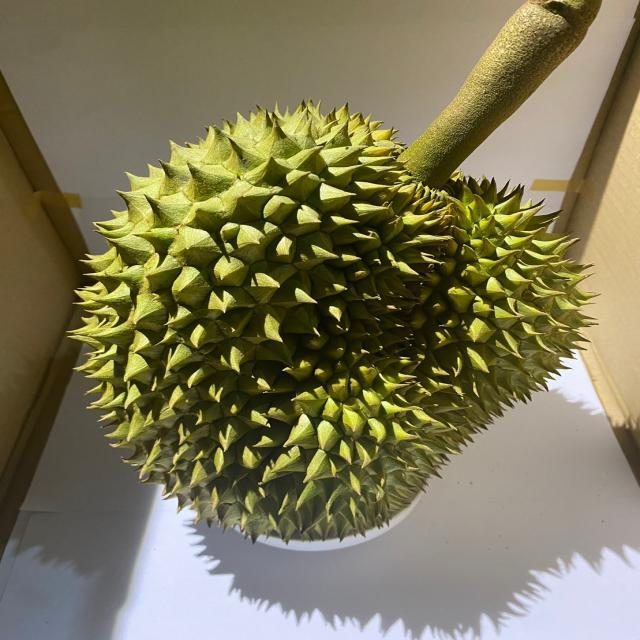immature: (67, 94, 603, 543)
